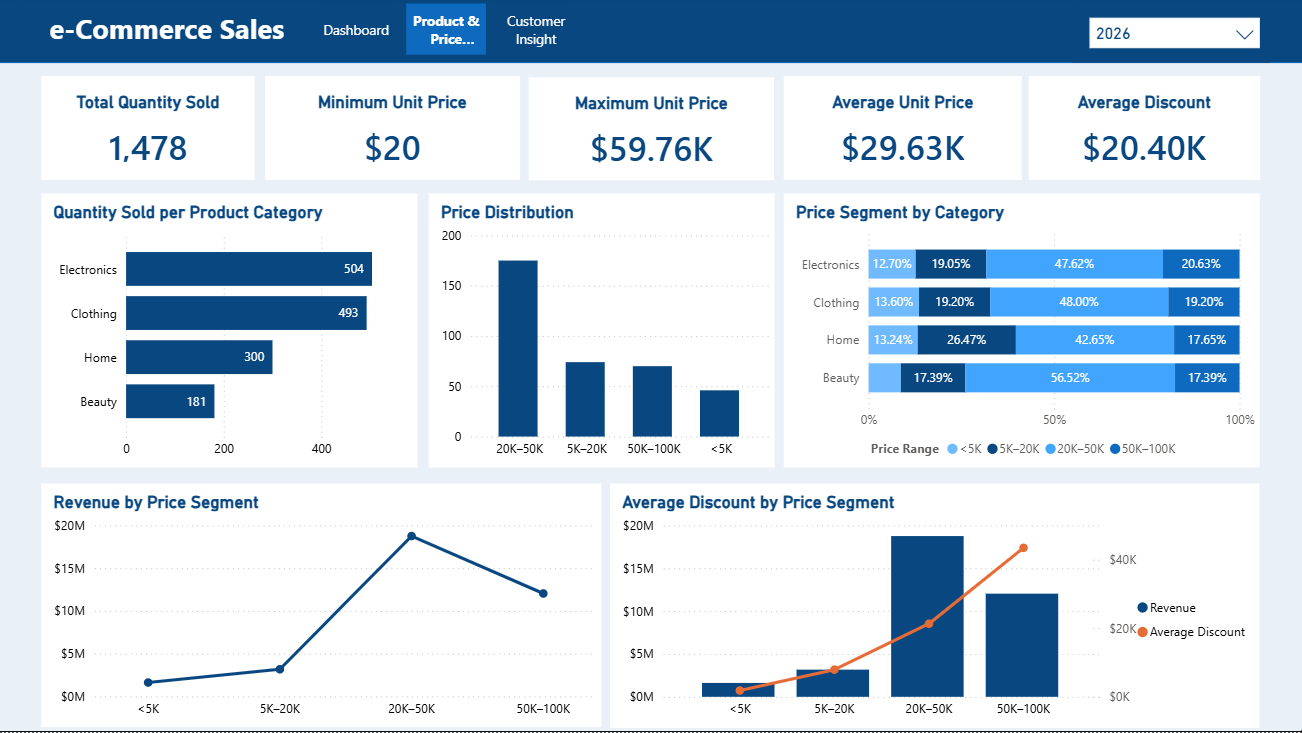

Layout of this report page (visuals, bound fields, positions):
{"tool":"powerbi","page":{"name":"Product & Price Analysis","canvas":[1280,720],"ordinal":1},"visuals":[{"type":"cardVisual","title":"Minimum Unit Price","fields":{"Data":["Min(ecommerce_sales_analytics_5000.unit_price)"]},"box":[263.8,78.5,249.2,101.5],"z":0},{"type":"shape","box":[0,0,1280,65.7],"z":1000},{"type":"textbox","box":[11,8.6,292.3,50.1],"z":2000},{"type":"cardVisual","title":"Total Quantity Sold","fields":{"Data":["ecommerce_sales_analytics_5000.Total Qty"]},"box":[45.2,78.3,209.1,101.5],"z":3000},{"type":"cardVisual","title":"Maximum Unit Price","fields":{"Data":["Max(ecommerce_sales_analytics_5000.unit_price)"]},"box":[522.3,79.2,240,100.8],"z":4000},{"type":"cardVisual","title":"Average Unit Price","fields":{"Data":["Avg(ecommerce_sales_analytics_5000.unit_price)"]},"box":[771.5,78.5,233.1,101.5],"z":5000},{"type":"cardVisual","title":"Average Discount","fields":{"Data":["Avg(ecommerce_sales_analytics_5000.discount_value)"]},"box":[1011.3,78.3,226.2,101.5],"z":6000},{"type":"slicer","title":"Year","fields":{"Values":["ecommerce_sales_analytics_5000.order_date.Variation.Date Hierarchy.Year"]},"box":[1054.3,8.6,192.9,57.1],"z":7000},{"type":"textbox","box":[22,8.6,292.3,50.1],"z":8000},{"type":"pageNavigator","box":[314.3,7.3,256.8,50.1],"z":9000},{"type":"clusteredBarChart","title":"Quantity Sold per Product Category","fields":{"Category":["ecommerce_sales_analytics_5000.product_category"],"Y":["Sum(ecommerce_sales_analytics_5000.quantity)"]},"box":[45.4,193.1,367.7,267.7],"z":10000},{"type":"clusteredColumnChart","title":"Price Distribution","fields":{"Category":["ecommerce_sales_analytics_5000.Price Range"],"Y":["Count(ecommerce_sales_analytics_5000.order_id)"]},"box":[424,193,338,268],"z":11000},{"type":"hundredPercentStackedBarChart","title":"Price Segment by Category","fields":{"Category":["ecommerce_sales_analytics_5000.product_category"],"Series":["ecommerce_sales_analytics_5000.Price Range"],"Y":["Count(ecommerce_sales_analytics_5000.order_id)"]},"box":[771.6,193.2,465.9,267.8],"z":12000},{"type":"lineChart","title":"Revenue by Price Segment","fields":{"Y":["Sum(ecommerce_sales_analytics_5000.revenue)"],"Category":["ecommerce_sales_analytics_5000.Price Range"]},"box":[45.4,476.9,547.7,238.5],"z":13000},{"type":"lineStackedColumnComboChart","title":"Average Discount by Price Segment","fields":{"Y":["Sum(ecommerce_sales_analytics_5000.revenue)"],"Category":["ecommerce_sales_analytics_5000.Price Range"],"Y2":["Avg(ecommerce_sales_analytics_5000.discount_value)"]},"box":[602.2,476.7,635.6,238.9],"z":14000}]}

Visuals, with their boxes in screenshot pixels (x1, y1, x2, y2), scaled from the page's 1280x720 canvas onto the 1302x733 screenshot:
"Minimum Unit Price" cardVisual: (x1=268, y1=80, x2=522, y2=183)
shape: (x1=0, y1=0, x2=1301, y2=67)
textbox: (x1=11, y1=9, x2=309, y2=60)
"Total Quantity Sold" cardVisual: (x1=46, y1=80, x2=259, y2=183)
"Maximum Unit Price" cardVisual: (x1=531, y1=81, x2=775, y2=183)
"Average Unit Price" cardVisual: (x1=785, y1=80, x2=1022, y2=183)
"Average Discount" cardVisual: (x1=1029, y1=80, x2=1259, y2=183)
"Year" slicer: (x1=1072, y1=9, x2=1269, y2=67)
textbox: (x1=22, y1=9, x2=320, y2=60)
pageNavigator: (x1=320, y1=7, x2=581, y2=58)
"Quantity Sold per Product Category" clusteredBarChart: (x1=46, y1=197, x2=420, y2=469)
"Price Distribution" clusteredColumnChart: (x1=431, y1=196, x2=775, y2=469)
"Price Segment by Category" hundredPercentStackedBarChart: (x1=785, y1=197, x2=1259, y2=469)
"Revenue by Price Segment" lineChart: (x1=46, y1=486, x2=603, y2=728)
"Average Discount by Price Segment" lineStackedColumnComboChart: (x1=613, y1=485, x2=1259, y2=729)
